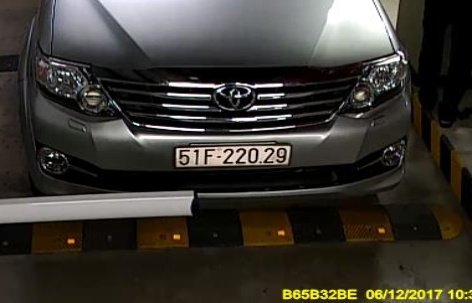plate: (168, 138, 294, 172)
